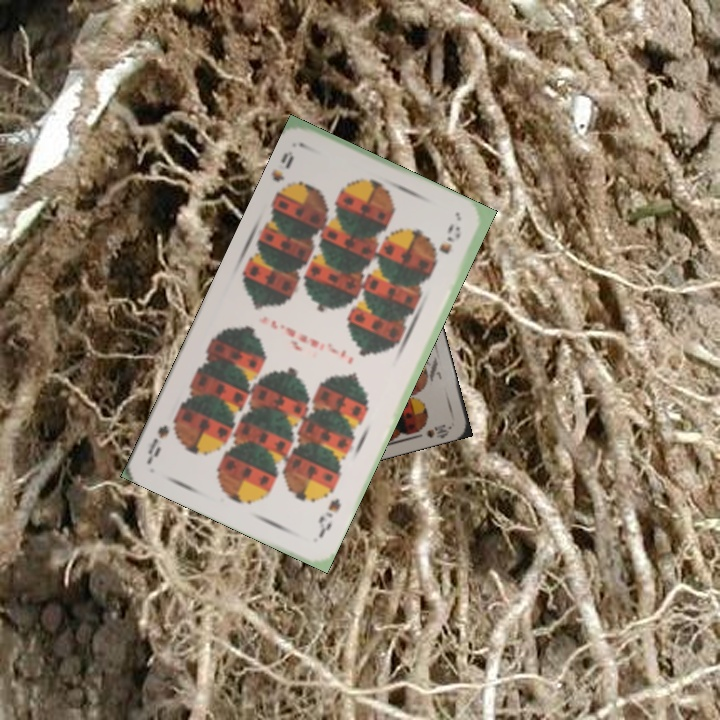S9: (268, 147, 297, 200), (314, 494, 343, 541)
